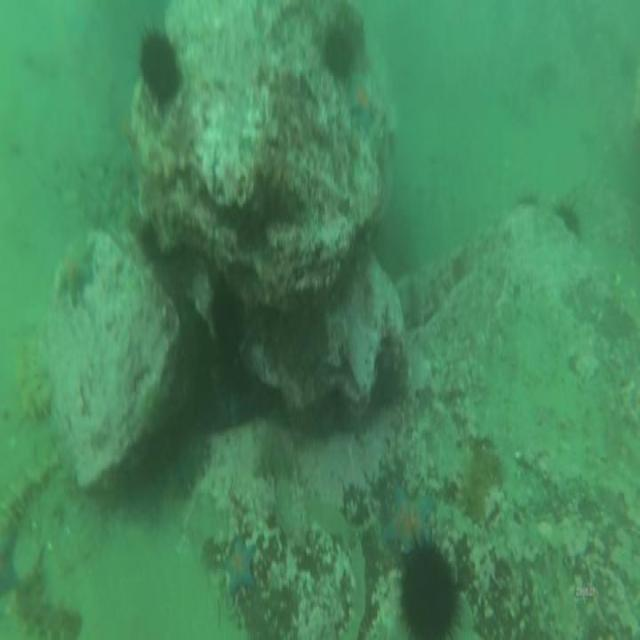echinus: (400, 529, 460, 640), (133, 21, 184, 108), (322, 17, 357, 84)
holothurian: (458, 438, 500, 528), (0, 466, 52, 532), (16, 338, 52, 419)
starfish: (381, 484, 434, 560), (55, 234, 97, 306), (342, 70, 385, 131), (226, 532, 257, 598), (0, 536, 21, 599)
